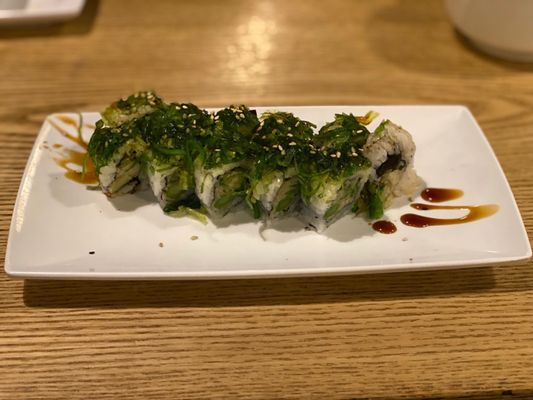sushi: (441, 0, 533, 65)
